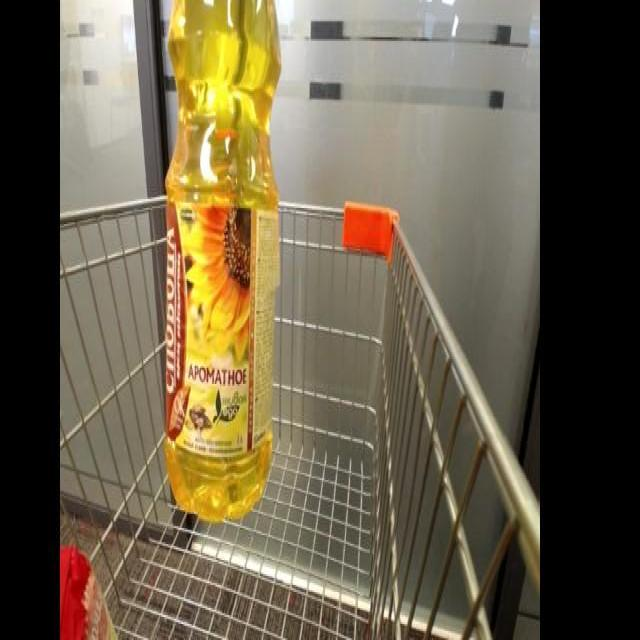Oil: (158, 0, 288, 530)
